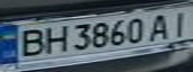0: (124, 16, 151, 45)
3: (69, 20, 93, 53)
6: (109, 17, 130, 47)
8: (90, 19, 112, 51)
A: (145, 11, 175, 42)
B: (12, 25, 48, 58)
H: (39, 24, 72, 55)
I: (163, 7, 193, 37)
